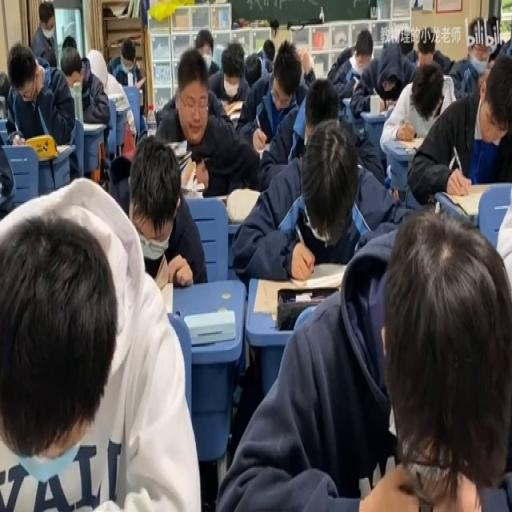calculator: (251, 269, 345, 317), (442, 182, 494, 219), (184, 308, 234, 342), (226, 186, 260, 225), (152, 252, 168, 288), (393, 135, 425, 152), (158, 279, 174, 313), (165, 139, 188, 161), (181, 158, 196, 189), (222, 100, 243, 120), (107, 90, 127, 110), (181, 184, 203, 199), (82, 120, 104, 132), (361, 110, 386, 120), (202, 192, 227, 202), (134, 74, 146, 90), (384, 100, 395, 116), (341, 95, 350, 114), (56, 144, 70, 155), (258, 142, 270, 154)
paper: (3, 175, 201, 509), (348, 206, 512, 512), (232, 110, 402, 282), (409, 51, 512, 202), (156, 48, 258, 196), (7, 43, 75, 176), (350, 31, 418, 117), (493, 177, 512, 325), (302, 75, 339, 148), (406, 23, 451, 74), (107, 34, 146, 90), (326, 38, 358, 84), (192, 28, 221, 78), (0, 128, 15, 215), (448, 55, 480, 91), (294, 42, 315, 86), (256, 36, 275, 72), (244, 52, 262, 86), (485, 16, 501, 52), (0, 73, 11, 125), (467, 17, 485, 46), (483, 47, 502, 74), (398, 27, 414, 54), (38, 0, 54, 27), (42, 46, 58, 68), (60, 33, 78, 48)
